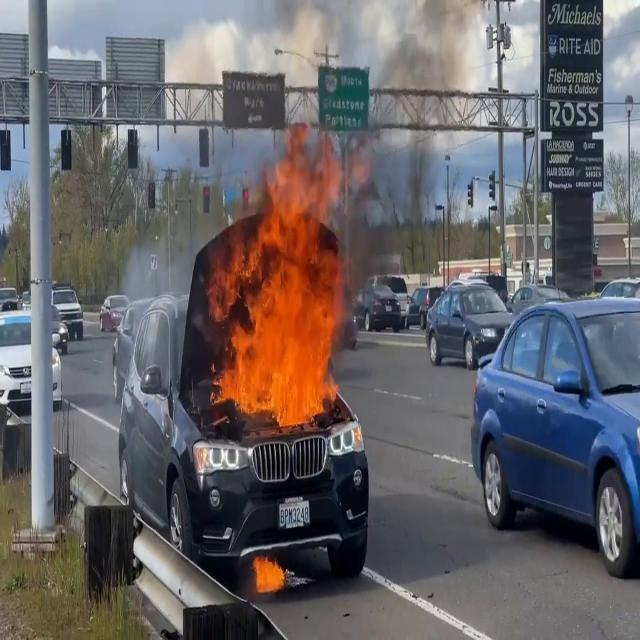Fire: (206, 127, 352, 429), (248, 550, 288, 598)
Smoke: (344, 0, 486, 285), (338, 0, 480, 236)
